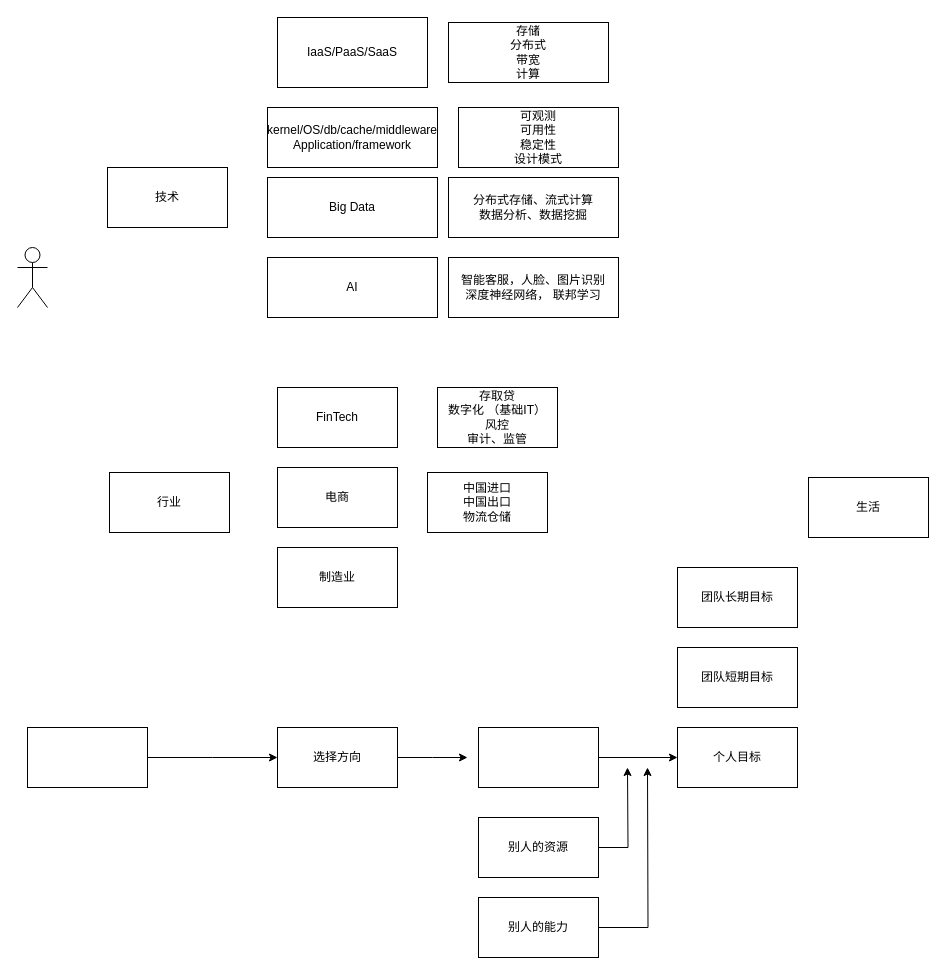
This 946x975 diagram has some shape labels left out. The centre of each missing label's shape, as x and y in pixels:
"Actor" belongs at (32,277).
"了解行业、技术" belongs at (87,757).
"具体做什么" belongs at (538,757).
